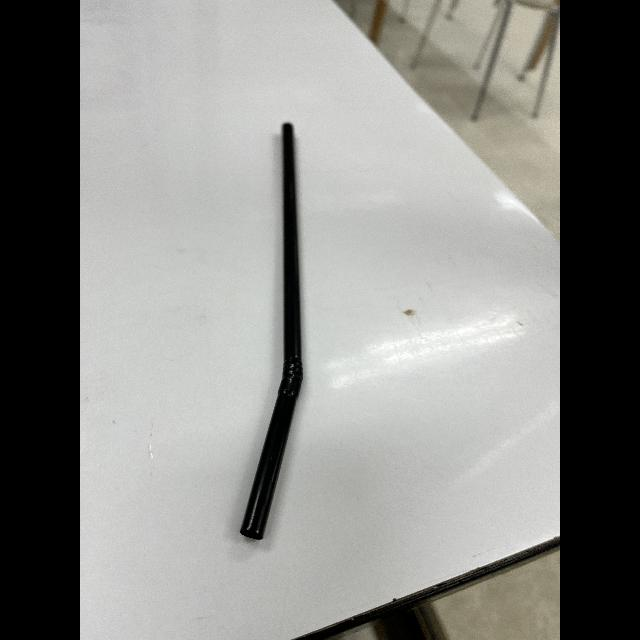straw: (235, 120, 312, 544)
